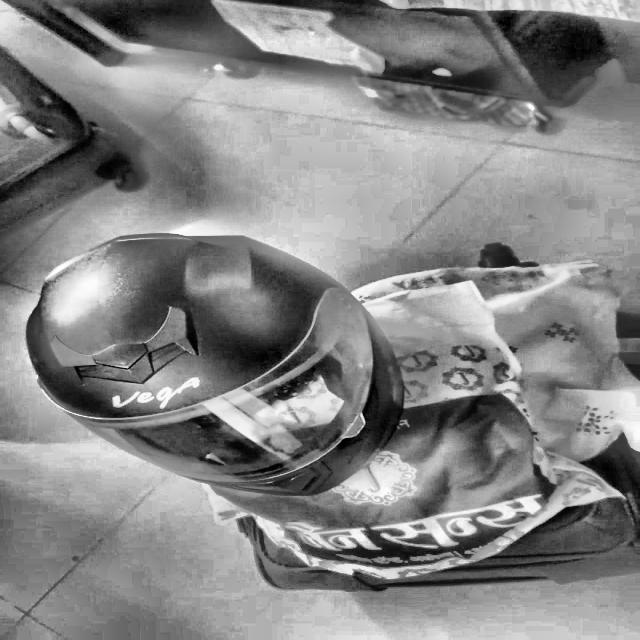Helmet: (22, 227, 396, 496)
